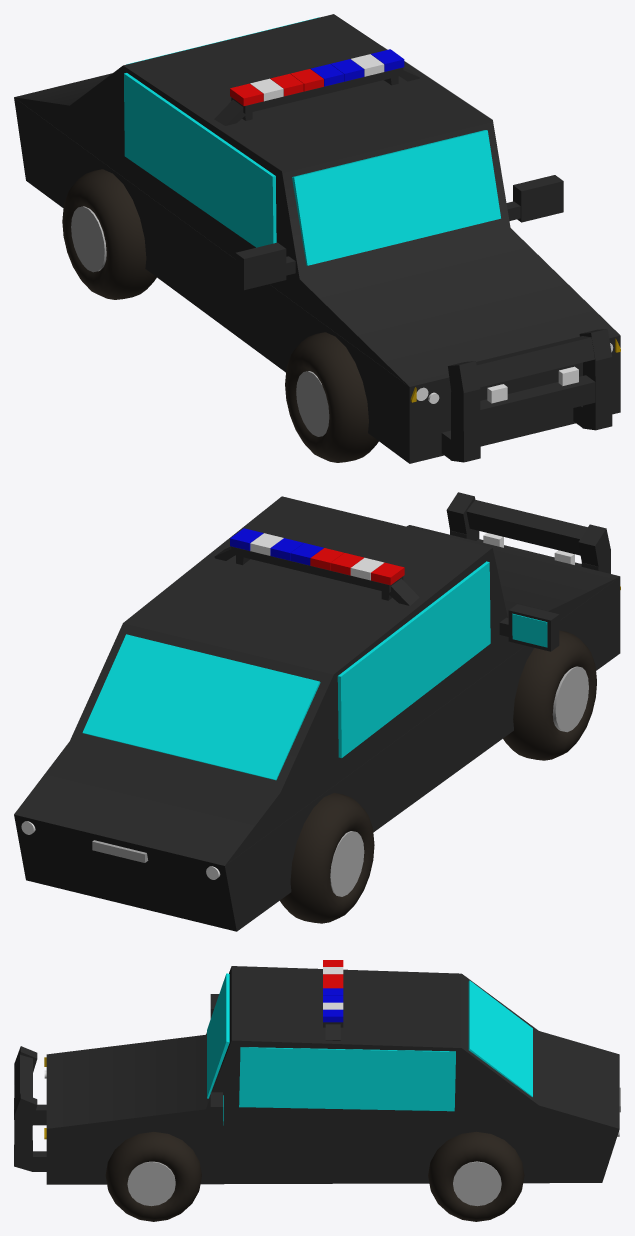
The model's file is car.fbx.
3 renders of one model, top to bottom at view 1: azimuth 30°, elevation 25°; view 2: azimuth 150°, elevation 25°; view 3: azimuth 270°, elevation 25°, orthographic. The views are drawn at different scales.
Visible parts, largest first — view 1: pCube2, pCube1, pCube9, pCube10, pTorus1, pTorus4, pCube7, pCube8, pCube3, pCube33, pCube34, pCube6 (+4 smaller); view 2: pCube2, pCube1, pCube11, pCube10, pTorus4, pTorus1, pCube8, pCylinder1, pCylinder2, pCube17, pCube33, pCube4 (+3 smaller); view 3: pCube2, pCube1, pCube10, pTorus2, pTorus3, pCube11, pCube9, pCylinder2, pCylinder1, pCube6, pCube8, pCube5 (+1 smaller).
Part boxes in pixels (bbox=[...]): pCube2: bbox=[14, 14, 620, 386]; pCube1: bbox=[14, 97, 620, 463]; pCube9: bbox=[292, 130, 500, 265]; pCube10: bbox=[124, 73, 276, 247]; pTorus1: bbox=[285, 332, 378, 462]; pTorus4: bbox=[62, 169, 156, 299]; pCube7: bbox=[480, 375, 595, 430]; pCube8: bbox=[476, 336, 594, 387]; pCube3: bbox=[450, 389, 480, 462]; pCube33: bbox=[235, 242, 286, 290]; pCube34: bbox=[513, 175, 563, 222]; pCube6: bbox=[582, 357, 612, 430]; pCube2: bbox=[14, 496, 619, 865]; pCube1: bbox=[14, 576, 620, 931]; pCube11: bbox=[82, 634, 320, 780]; pCube10: bbox=[337, 561, 490, 758]; pTorus4: bbox=[280, 793, 374, 923]; pTorus1: bbox=[503, 630, 596, 760]; pCube8: bbox=[466, 500, 587, 555]; pCylinder1: bbox=[552, 666, 588, 732]; pCylinder2: bbox=[330, 831, 364, 896]; pCube17: bbox=[231, 546, 403, 592]; pCube33: bbox=[508, 604, 559, 651]; pCube4: bbox=[578, 524, 610, 566]; pCube2: bbox=[46, 966, 619, 1128]; pCube1: bbox=[46, 1129, 619, 1184]; pCube10: bbox=[239, 1047, 455, 1111]; pTorus2: bbox=[105, 1132, 201, 1221]; pTorus3: bbox=[428, 1131, 524, 1221]; pCube11: bbox=[468, 980, 532, 1097]; pCube9: bbox=[207, 973, 229, 1098]; pCylinder2: bbox=[453, 1161, 501, 1206]; pCylinder1: bbox=[127, 1161, 175, 1206]; pCube6: bbox=[14, 1116, 32, 1171]; pCube8: bbox=[15, 1055, 32, 1107]; pCube5: bbox=[14, 1093, 37, 1122].
Size of the model in its own units: 6.06 by 4.85 by 13.77.
